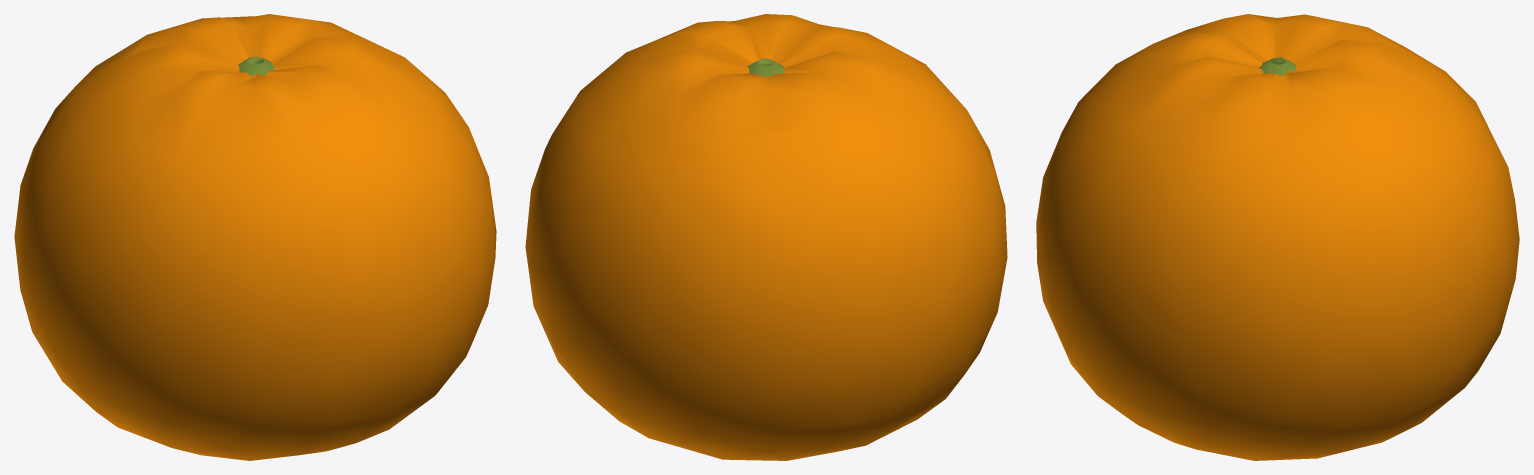
The model's file is orange.fbx.
3 renders of one model, left to right at view 1: azimuth 30°, elevation 25°; view 2: azimuth 150°, elevation 25°; view 3: azimuth 270°, elevation 25°, orthographic.
Parts seen in each view (by area): view 1: Orange_Body, Orange_Branch; view 2: Orange_Body, Orange_Branch; view 3: Orange_Body.
Part boxes in pixels (x1,y1,x2,y2): Orange_Body: [14, 14, 496, 460]; Orange_Branch: [238, 57, 274, 75]; Orange_Body: [525, 14, 1007, 460]; Orange_Branch: [747, 58, 784, 77]; Orange_Body: [1036, 14, 1519, 460].
Size of the model in its own units: 198 by 174 by 198.
